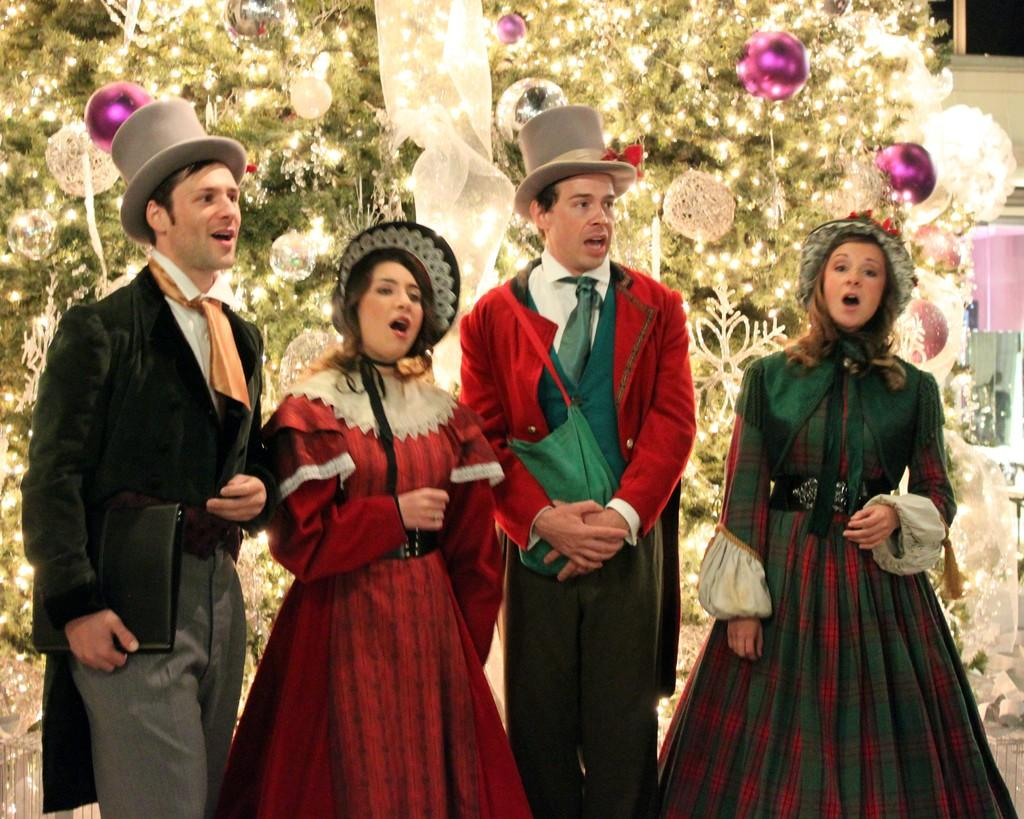Hat: (112, 93, 244, 246), (511, 100, 642, 213), (792, 212, 914, 322)
